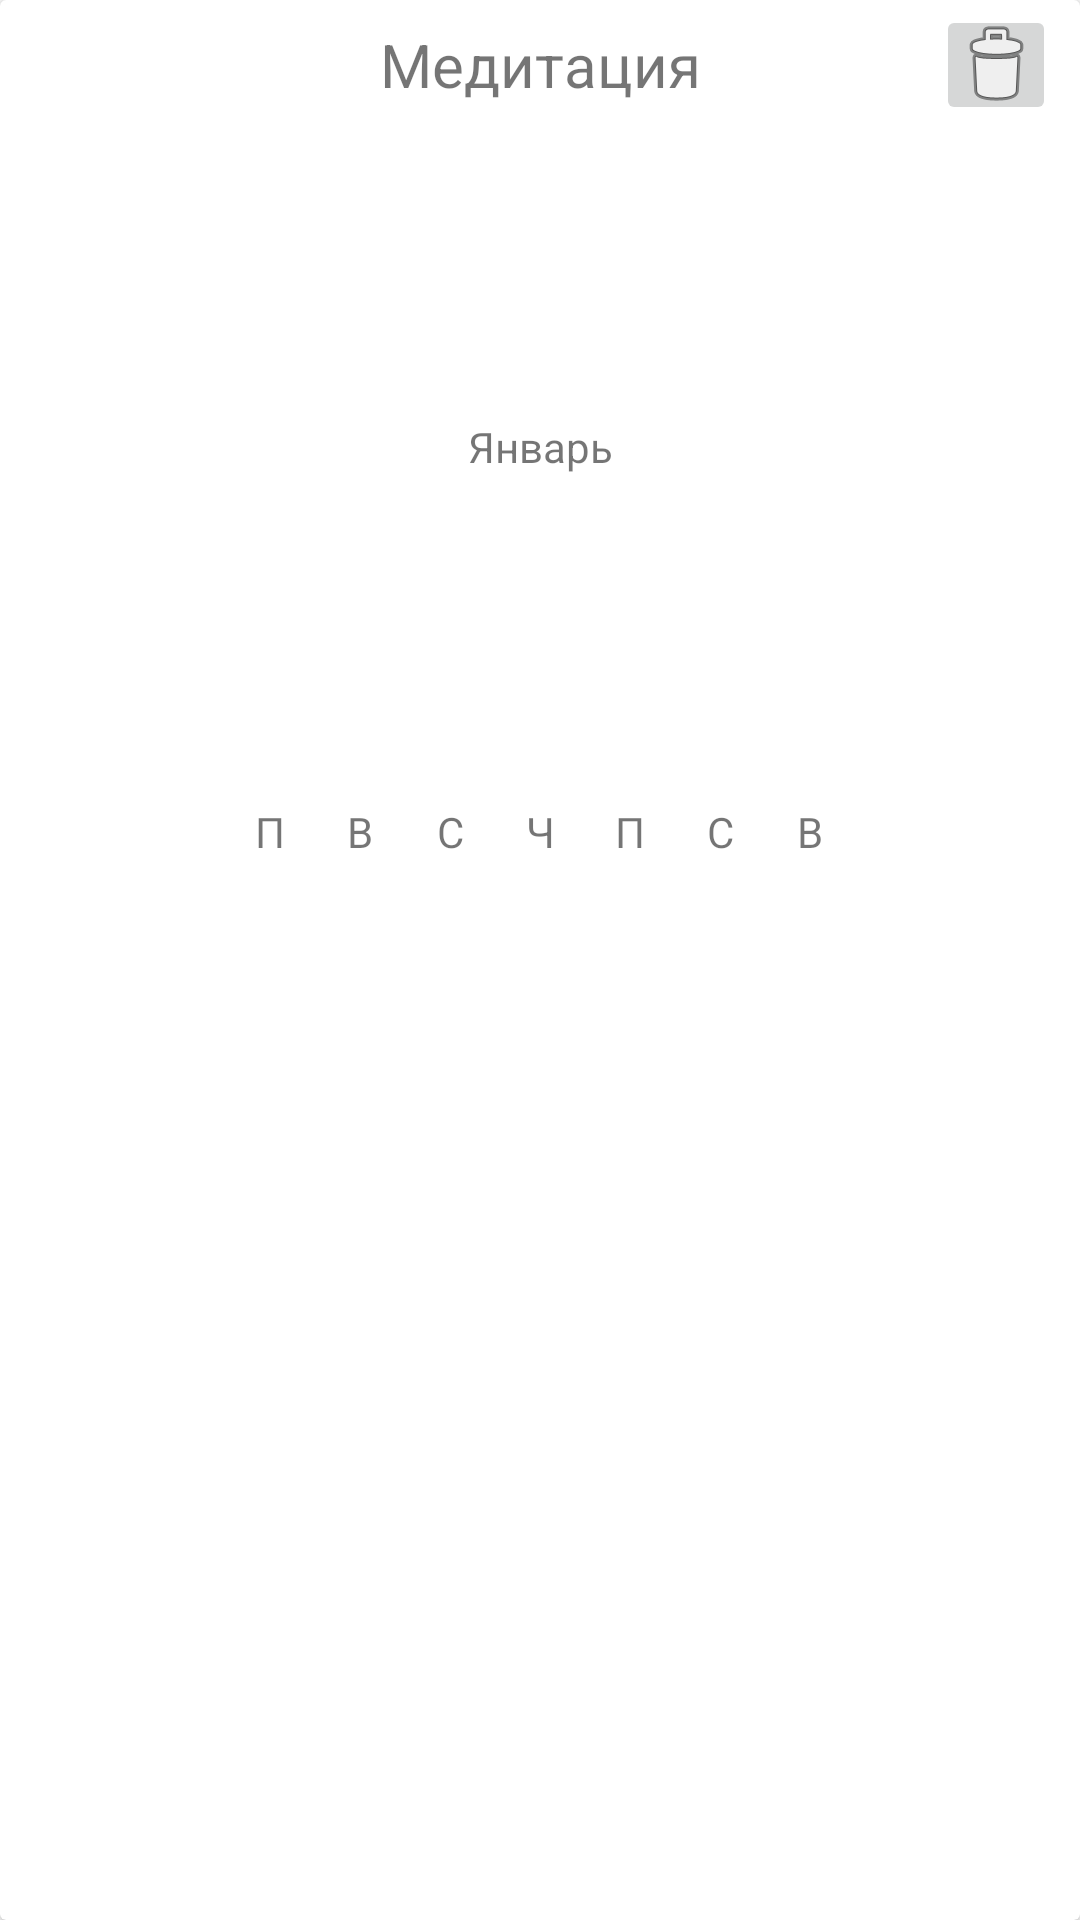

Screen size 1080w x 1920h. Icon name, then its box in pixels as (x1, y1, x2, y2):
delete: (948, 23, 1044, 107)
